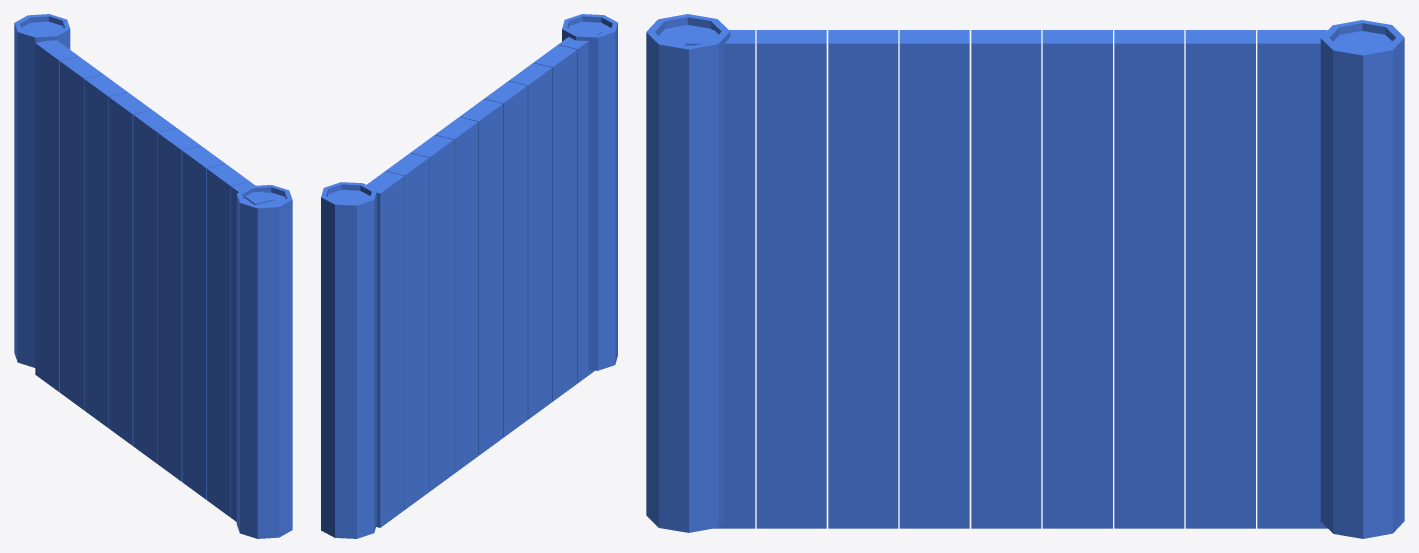
The model's file is Woodwall.fbx.
3 renders of one model, left to right at view 1: azimuth 30°, elevation 25°; view 2: azimuth 150°, elevation 25°; view 3: azimuth 270°, elevation 25°, orthographic. The views are drawn at different scales.
Parts seen in each view (by area): view 1: Woodwall; view 2: Woodwall; view 3: Woodwall.
Boxes of the visible parts, x1=… form: Woodwall: x1=14, y1=14, x2=292, y2=538; Woodwall: x1=321, y1=14, x2=617, y2=538; Woodwall: x1=646, y1=14, x2=1404, y2=538.
Bounding box in the file's own units: 36.78 × 202 × 284.
